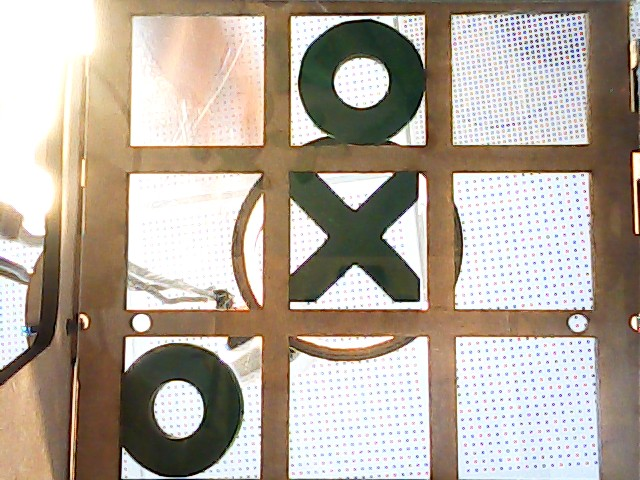O: (295, 18, 430, 144), (127, 344, 245, 473)
X: (290, 172, 420, 302)
